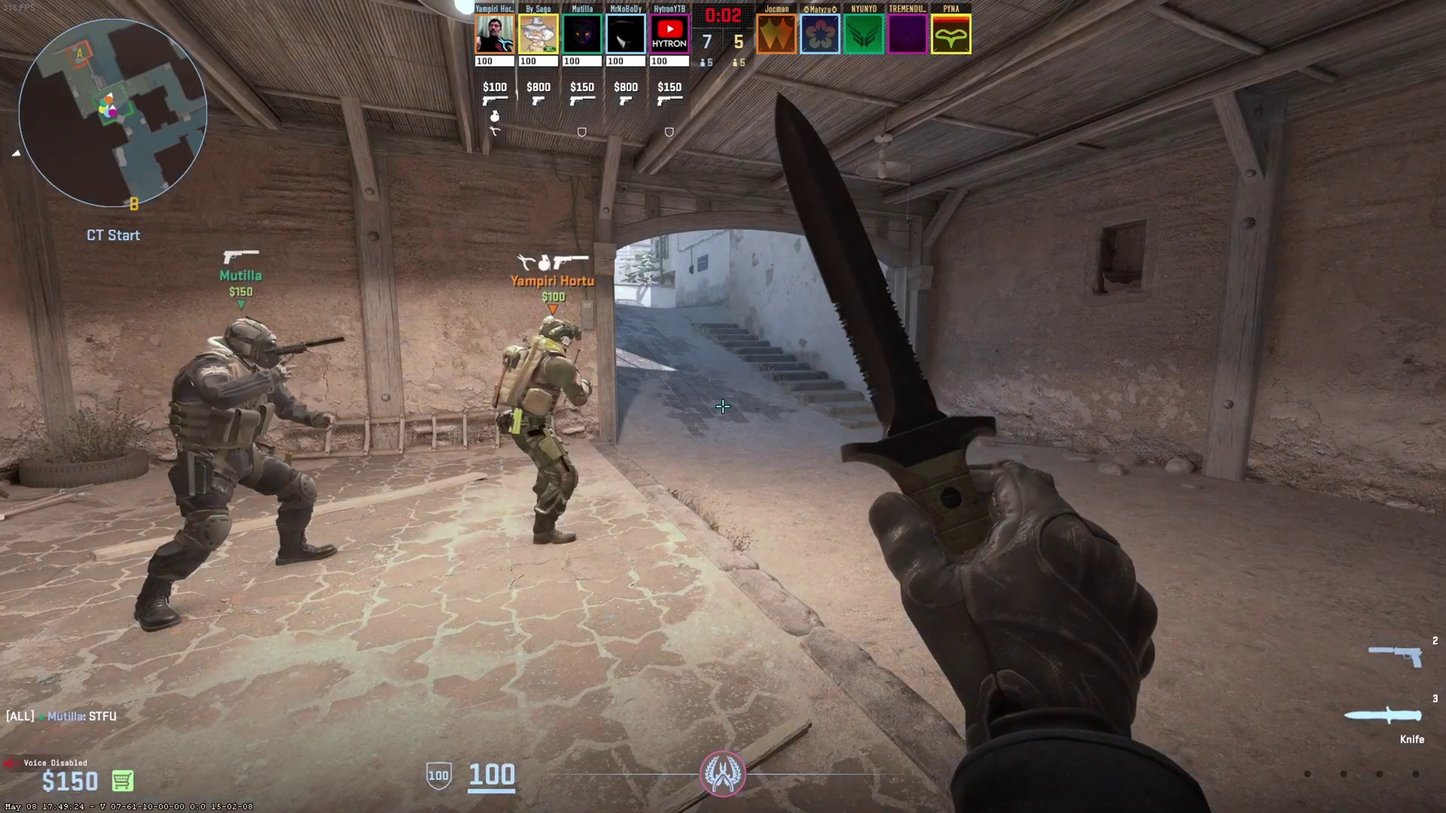CT: (138, 318, 335, 624), (502, 316, 586, 541)
